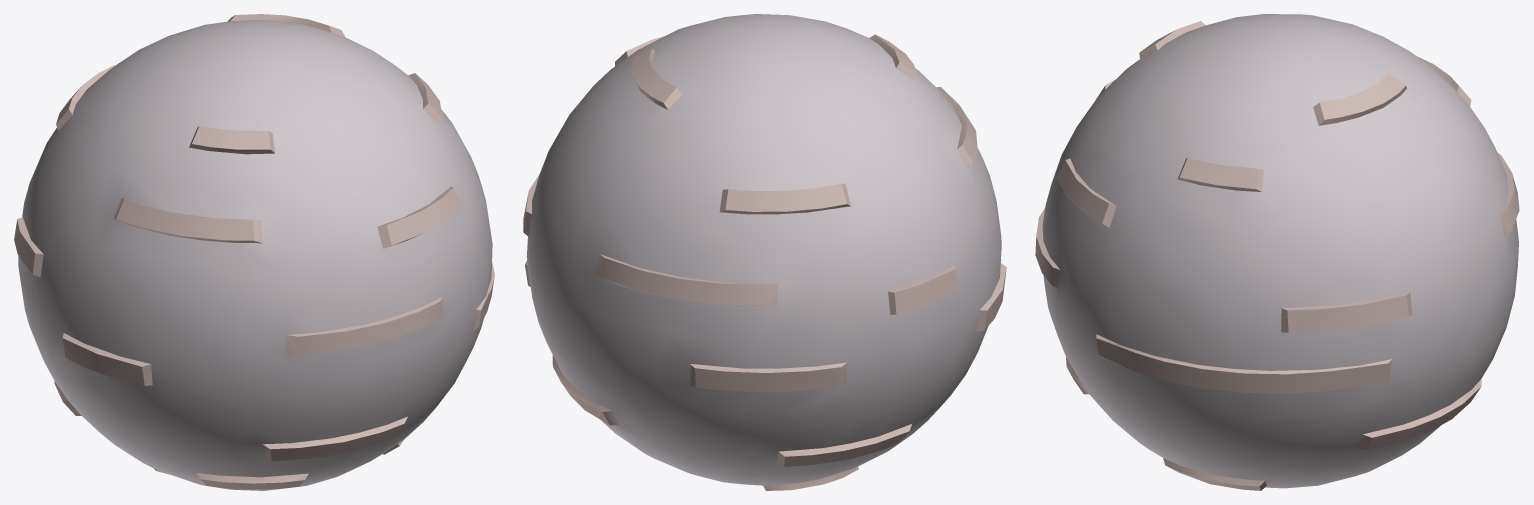
Rendered from quaternius-ultimate-space-planet-9.glb.
3 renders of one model, left to right at view 1: azimuth 30°, elevation 25°; view 2: azimuth 150°, elevation 25°; view 3: azimuth 270°, elevation 25°, orthographic.
Visible parts, largest first — view 1: Planet_9; view 2: Planet_9; view 3: Planet_9.
Part boxes in pixels (left/top/right/bottom): Planet_9: left=14, top=14, right=494, bottom=490; Planet_9: left=523, top=14, right=1006, bottom=490; Planet_9: left=1035, top=14, right=1519, bottom=490.
Bounding box in the file's own units: 3.82 × 3.75 × 3.81.
1 material, 1 textured.
